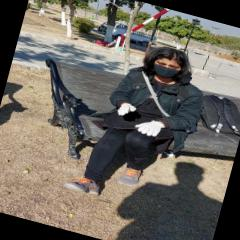gloved: (134, 116, 164, 138), (116, 102, 136, 119)
